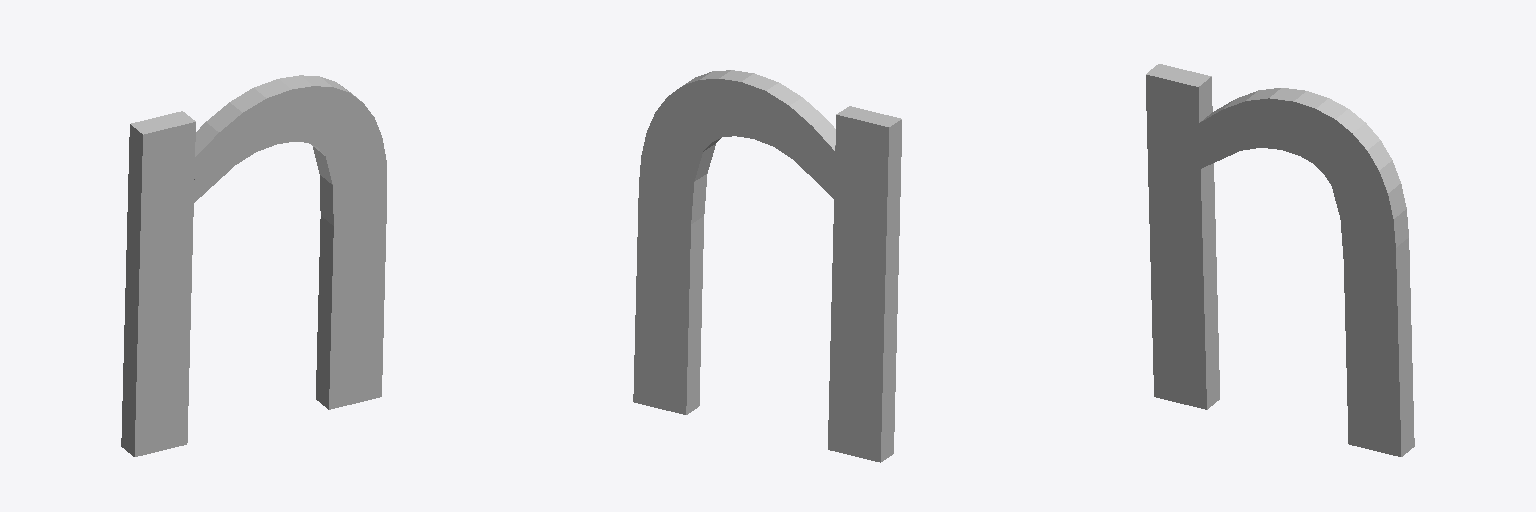
File: original-7.obj
3 views of the same model, side by side, from view 1: azimuth 30°, elevation 25°; view 2: azimuth 150°, elevation 25°; view 3: azimuth 330°, elevation 25° (orthographic).
Parts seen in each view (by area): view 1: mesh11/mesh11-geometry#mesh11-geometry; view 2: mesh11/mesh11-geometry#mesh11-geometry; view 3: mesh11/mesh11-geometry#mesh11-geometry.
Boxes of the visible parts, x1=… form: mesh11/mesh11-geometry#mesh11-geometry: x1=121, y1=75, x2=386, y2=456; mesh11/mesh11-geometry#mesh11-geometry: x1=633, y1=70, x2=901, y2=462; mesh11/mesh11-geometry#mesh11-geometry: x1=1146, y1=64, x2=1414, y2=456.
Bounding box in the file's own units: 0.0276 × 0.0361 × 0.0042.